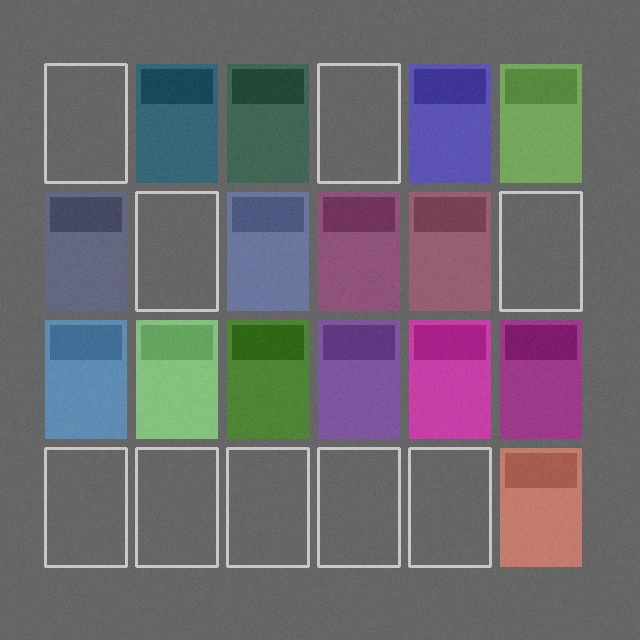space-empty: (45, 64, 126, 182), (318, 64, 399, 182), (136, 192, 217, 310), (500, 192, 581, 310), (45, 448, 126, 566), (136, 448, 217, 566), (227, 448, 308, 566), (318, 448, 399, 566), (409, 448, 490, 566)
space-occupied: (136, 64, 217, 182), (227, 64, 308, 182), (409, 64, 490, 182), (500, 64, 581, 182), (45, 192, 126, 310), (227, 192, 308, 310), (318, 192, 399, 310), (409, 192, 490, 310), (45, 320, 126, 438), (136, 320, 217, 438), (227, 320, 308, 438), (318, 320, 399, 438), (409, 320, 490, 438), (500, 320, 581, 438), (500, 448, 581, 566)
